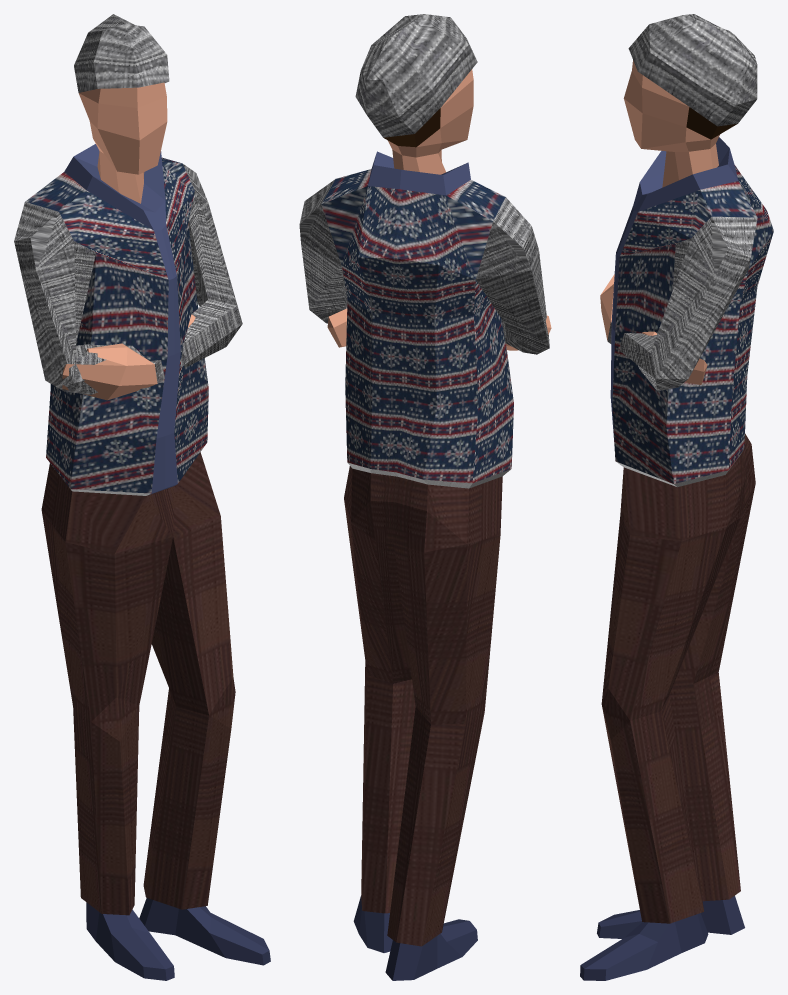
The model's file is AutumnManB.009.glb.
The picture shows the model from 3 angles, left to right: view 1: azimuth 30°, elevation 25°; view 2: azimuth 150°, elevation 25°; view 3: azimuth 270°, elevation 25°; orthographic projection. The views are drawn at different scales.
Visible parts, largest first — view 1: AutumnManB.009; view 2: AutumnManB.009; view 3: AutumnManB.009.
Boxes of the visible parts, x1,y1,x2,y2 form: AutumnManB.009: (14,14,270,980); AutumnManB.009: (299,14,551,980); AutumnManB.009: (580,14,773,980).
Bounding box in the file's own units: 0.4286 × 1.78 × 0.3396.
1 material, 1 textured.
